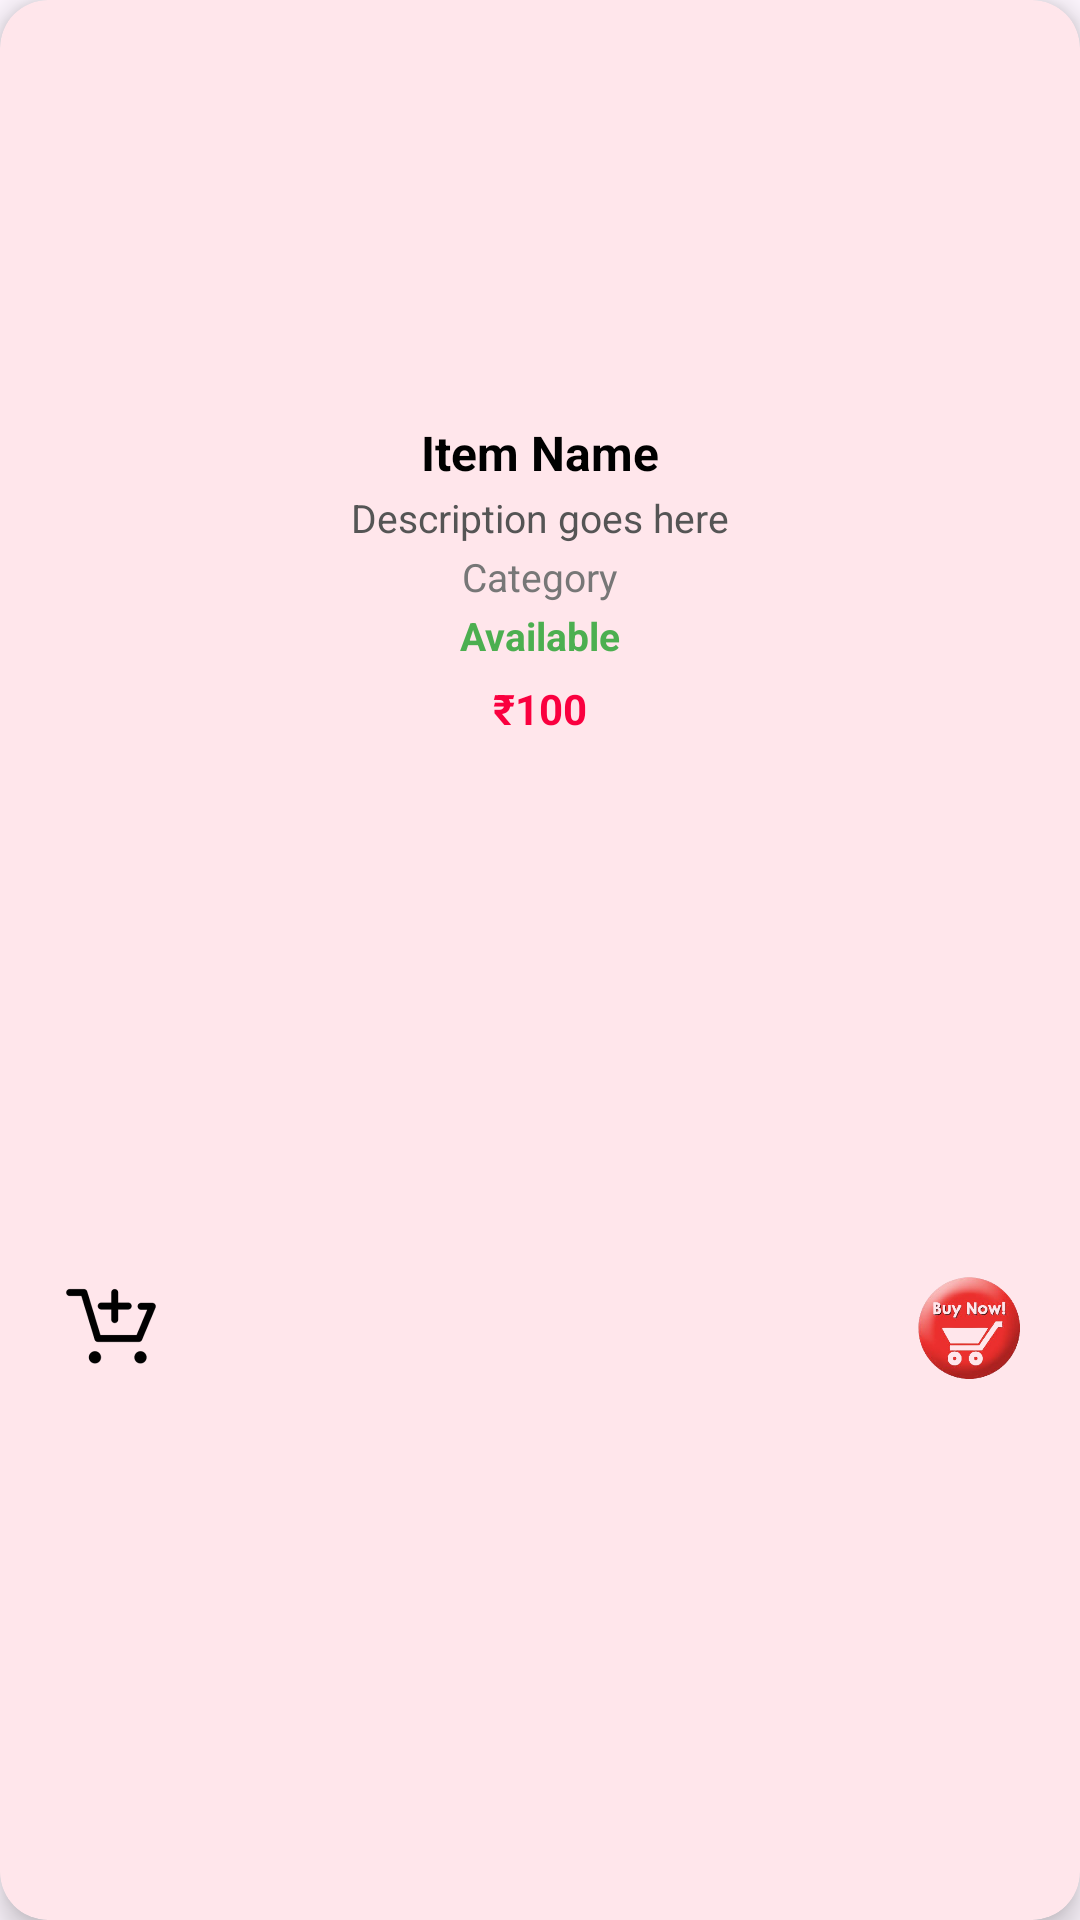

Icons on this 1080x1920 Android screen, each with the point to tap as [x,y]:
addtocart: [111,1326]
